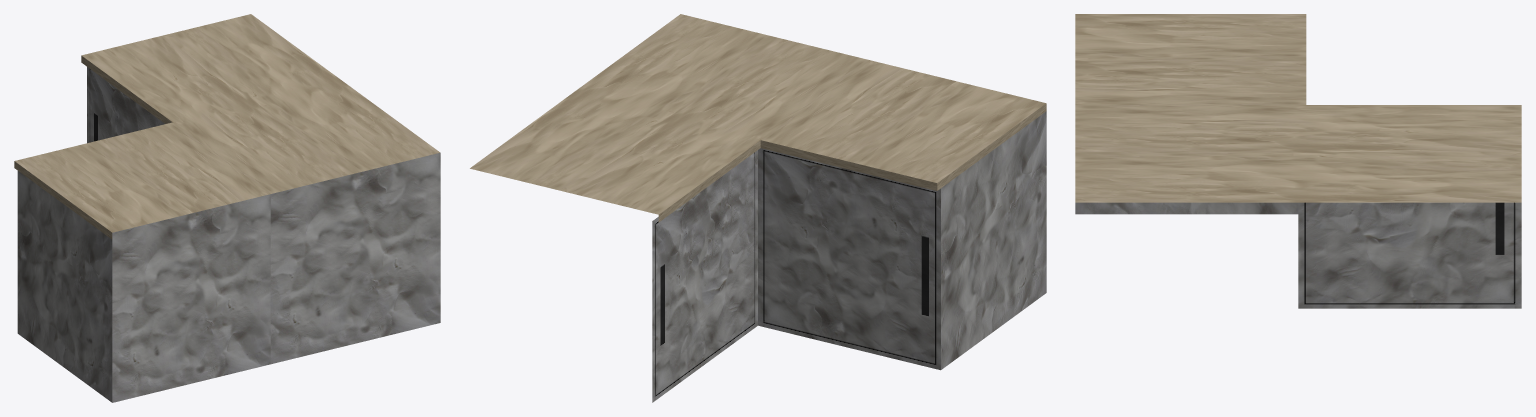
File: worktopcorner02.fbx
3 renders of one model, left to right at view 1: azimuth 30°, elevation 25°; view 2: azimuth 150°, elevation 25°; view 3: azimuth 270°, elevation 25°, orthographic. The views are drawn at different scales.
Parts seen in each view (by area): view 1: WorkTopCorner02; view 2: WorkTopCorner02; view 3: WorkTopCorner02.
Boxes of the visible parts, x1=… form: WorkTopCorner02: x1=14, y1=14, x2=440, y2=402; WorkTopCorner02: x1=470, y1=14, x2=1046, y2=402; WorkTopCorner02: x1=1075, y1=14, x2=1521, y2=308.
Bounding box in the file's own units: 2 × 0.9913 × 2.
Materials: 1 (1 with a texture image).
